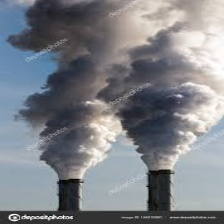smoke: (15, 1, 224, 177)
